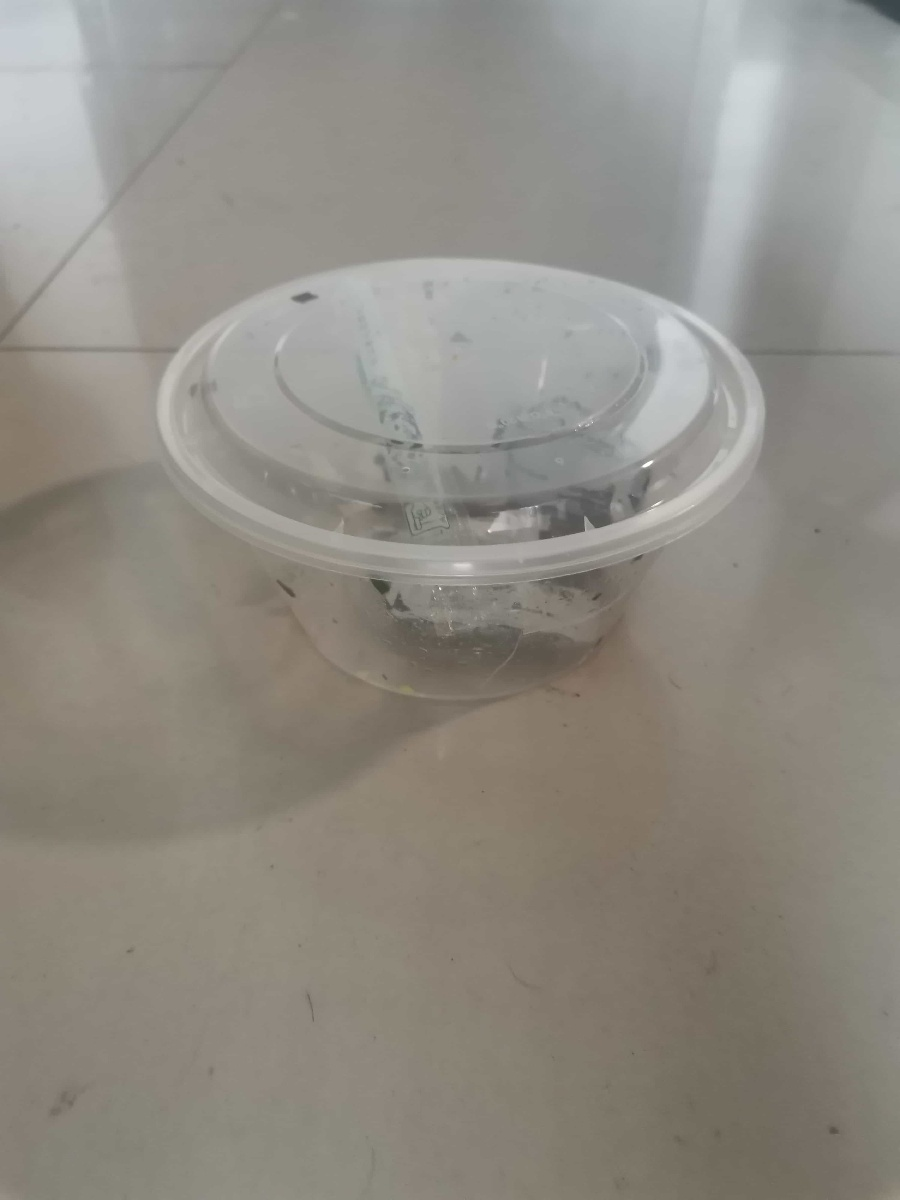fastfood box: (143, 246, 778, 714)
